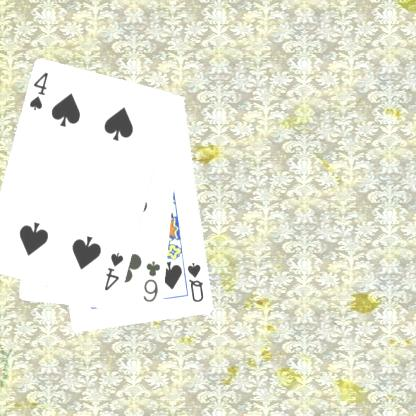4S: (26, 70, 50, 112), (102, 250, 125, 292)
6C: (140, 259, 162, 304)
QS: (184, 260, 206, 304)
